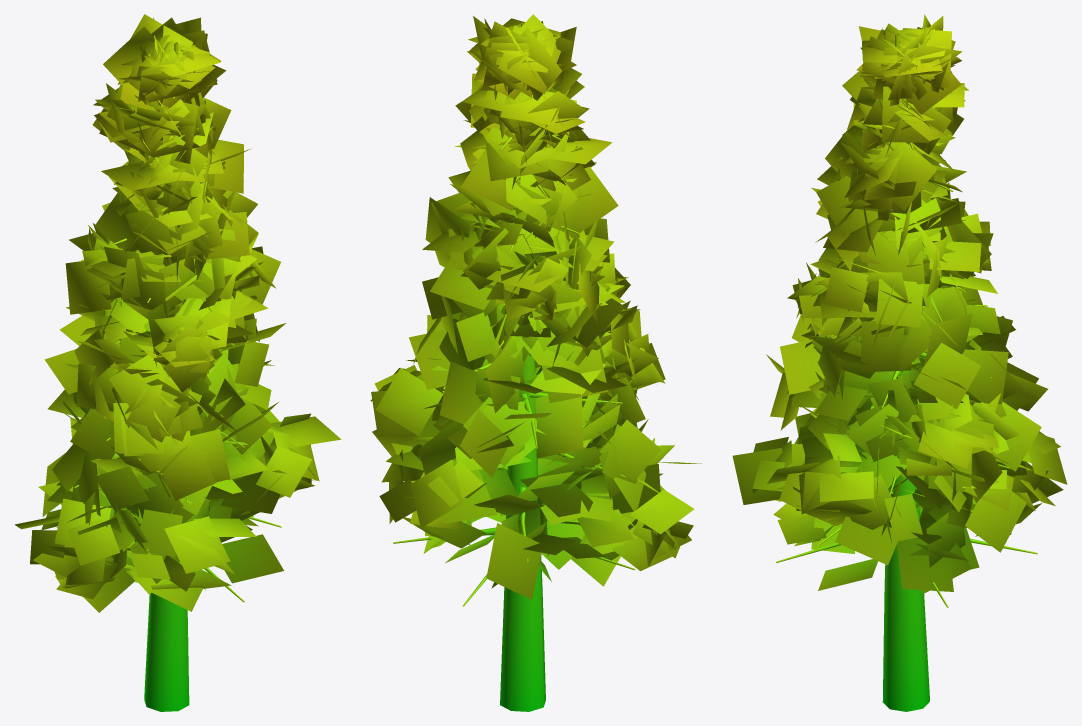
Rendered from sugi_c.glb.
The picture shows the model from 3 angles, left to right: view 1: azimuth 30°, elevation 25°; view 2: azimuth 150°, elevation 25°; view 3: azimuth 270°, elevation 25°; orthographic projection.
Parts seen in each view (by area): view 1: sugi_c; view 2: sugi_c; view 3: sugi_c.
Part boxes in pixels (x1,y1,x2,y2): sugi_c: (15, 14, 341, 711); sugi_c: (370, 14, 701, 711); sugi_c: (732, 14, 1067, 711).
Size of the model in its own units: 5.14 by 11.49 by 5.09.
